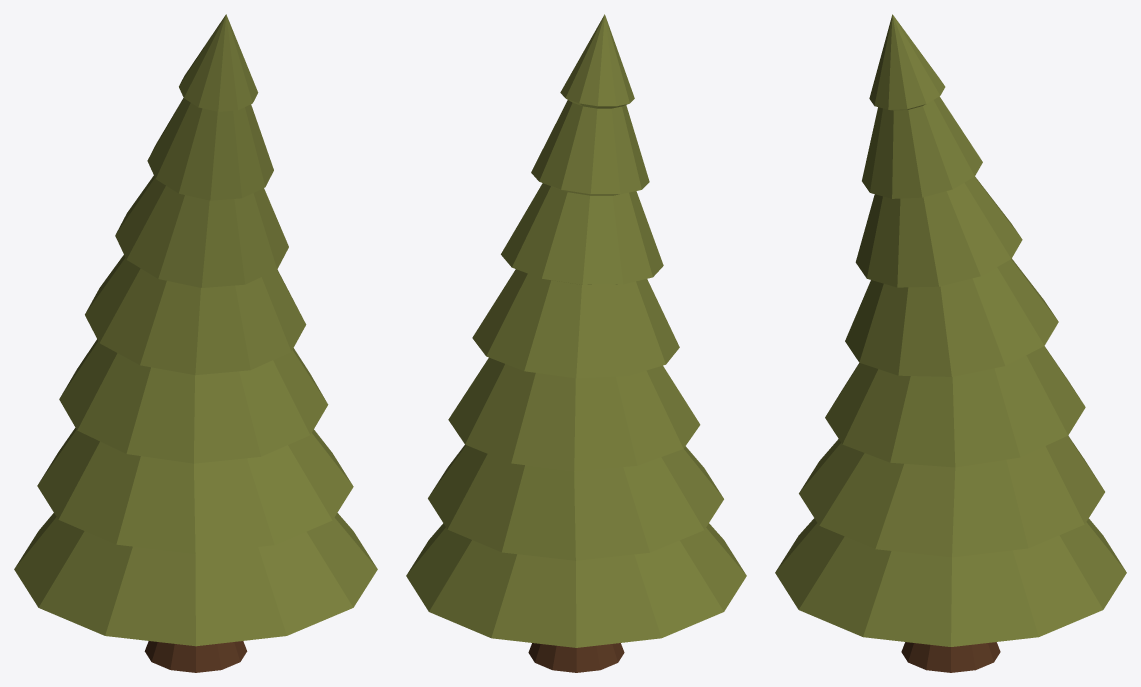
Rendered from Tree10.glb.
3 renders of one model, left to right at view 1: azimuth 30°, elevation 25°; view 2: azimuth 150°, elevation 25°; view 3: azimuth 270°, elevation 25°, orthographic. The views are drawn at different scales.
Visible parts, largest first — view 1: Tree12; view 2: Tree12; view 3: Tree12.
Part boxes in pixels (left/top/right/bottom): Tree12: left=14, top=14, right=377, bottom=672; Tree12: left=406, top=14, right=746, bottom=672; Tree12: left=775, top=14, right=1126, bottom=672.
Size of the model in its own units: 3.97 by 7.94 by 3.97.
